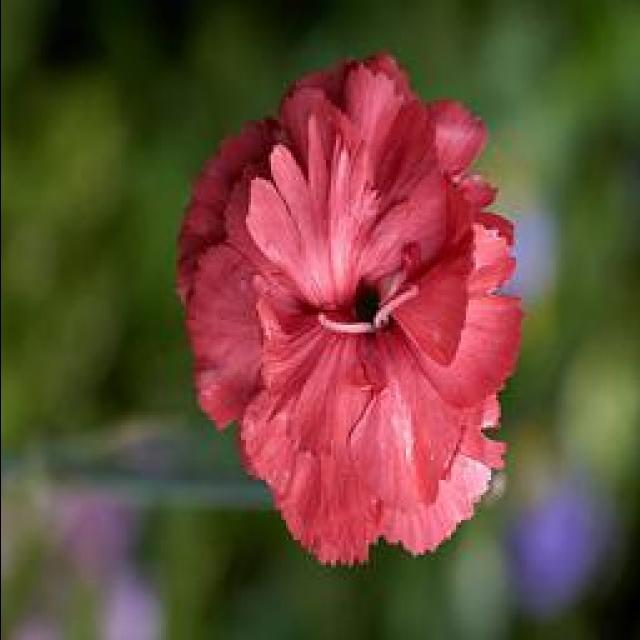carnation: (170, 25, 538, 640)
